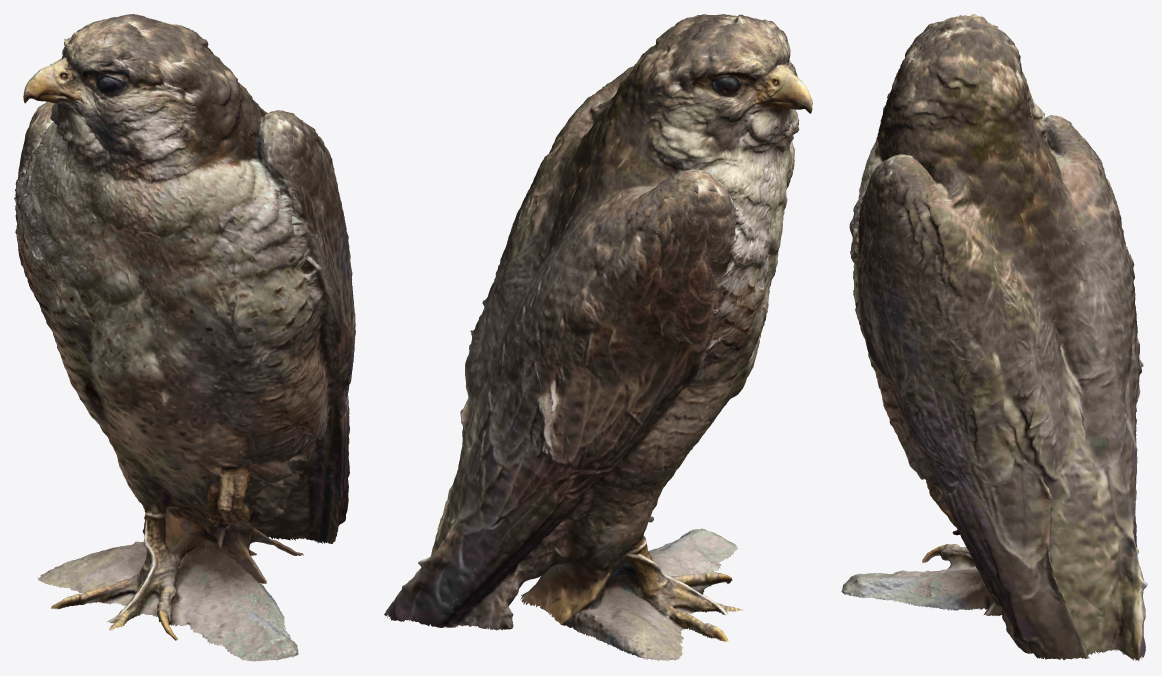
The model's file is falcon.glb.
The picture shows the model from 3 angles, left to right: view 1: azimuth 30°, elevation 25°; view 2: azimuth 150°, elevation 25°; view 3: azimuth 270°, elevation 25°; orthographic projection. The views are drawn at different scales.
Visible parts, largest first — view 1: Object_2, Object_9; view 2: Object_2, Object_9; view 3: Object_9, Object_2.
Part boxes in pixels (x1=…): Object_2: x1=14, y1=15, x2=355, y2=652; Object_9: x1=14, y1=14, x2=355, y2=661; Object_2: x1=389, y1=14, x2=809, y2=659; Object_9: x1=384, y1=14, x2=812, y2=661; Object_9: x1=841, y1=15, x2=1147, y2=660; Object_2: x1=851, y1=14, x2=1145, y2=660.
Bounding box in the file's own units: 0.6036 × 1 × 0.5238.
Materials: 2 (2 with a texture image).
